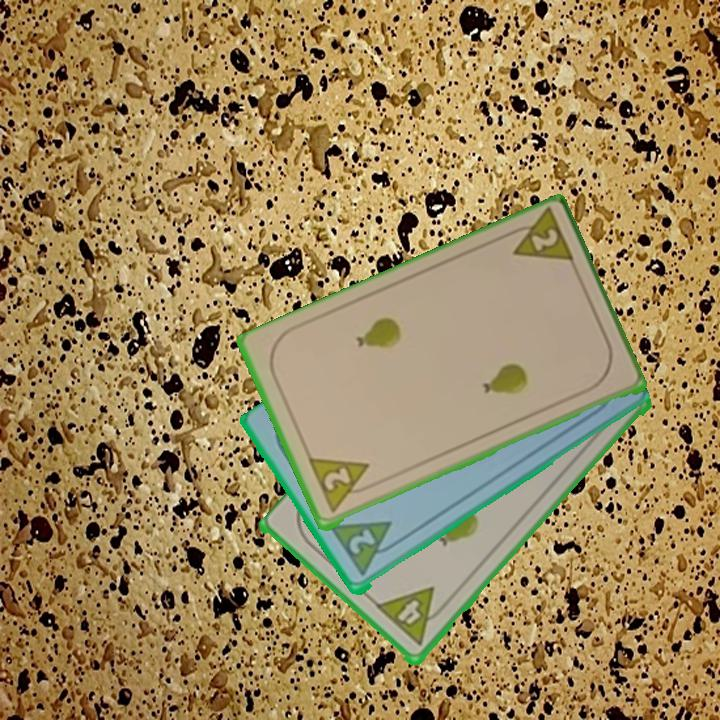2p: (327, 517, 405, 580), (500, 207, 578, 269), (305, 455, 378, 516)
4p: (373, 584, 451, 650)
